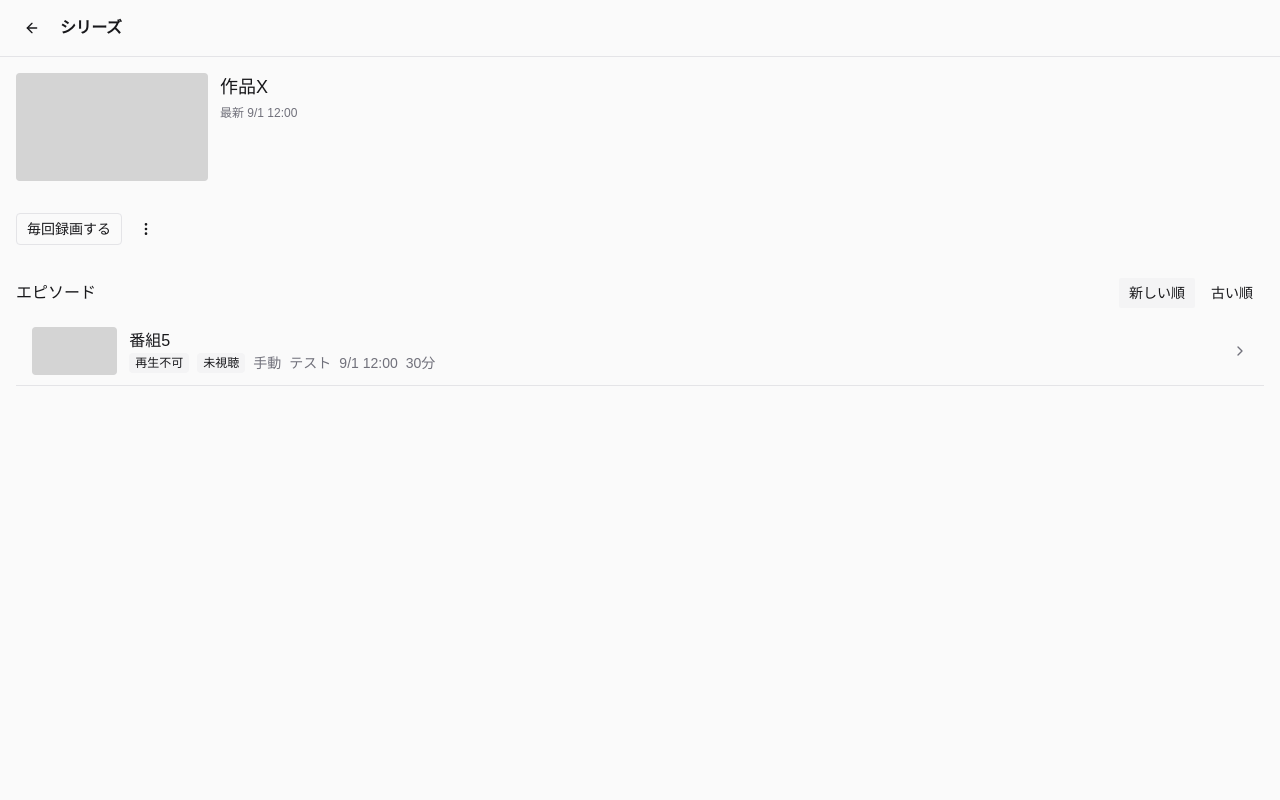
Test case: SeriesHubPage › overflow からシリーズ軸の分類フォームを開く
Click the button named "シリーズのその他の操作" at [146, 229], box [130,213,162,245]
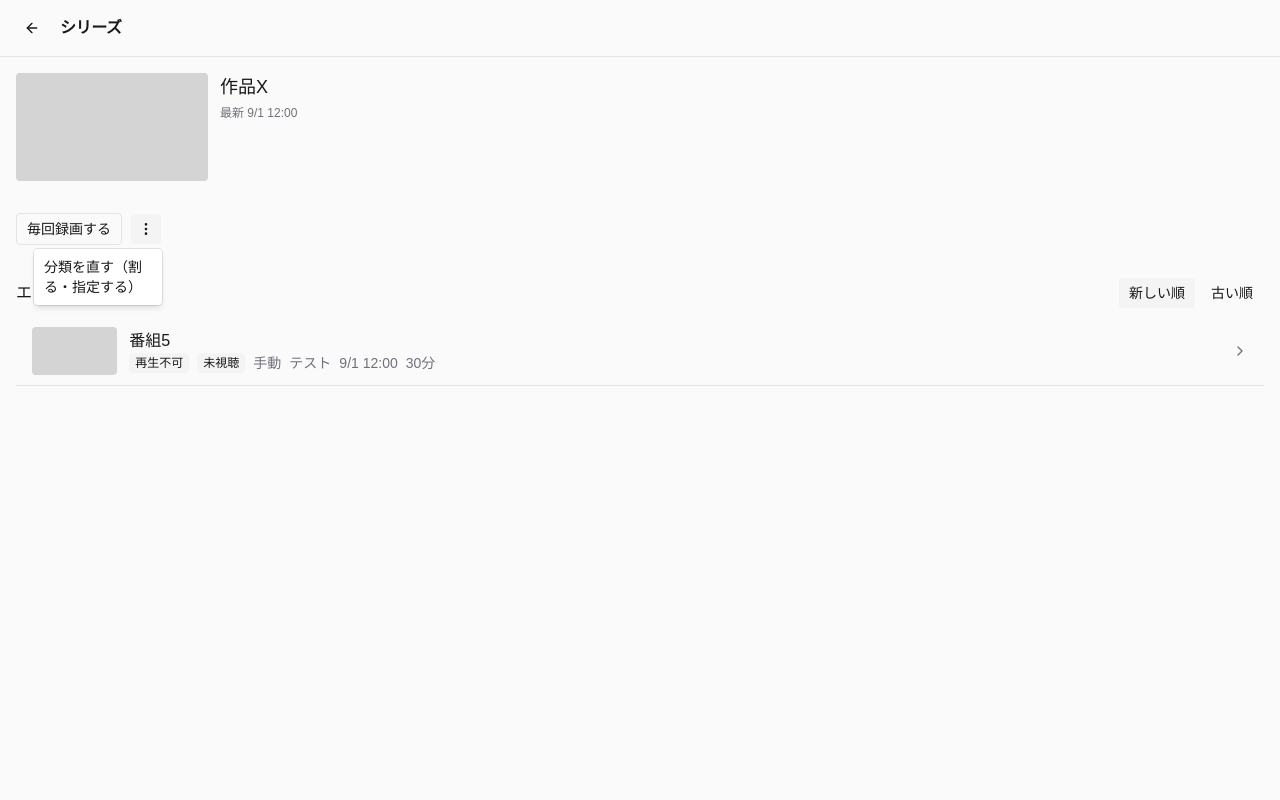
Click the menu item "分類を直す（割る・指定する）" at [93, 277], box [44,259,142,295]
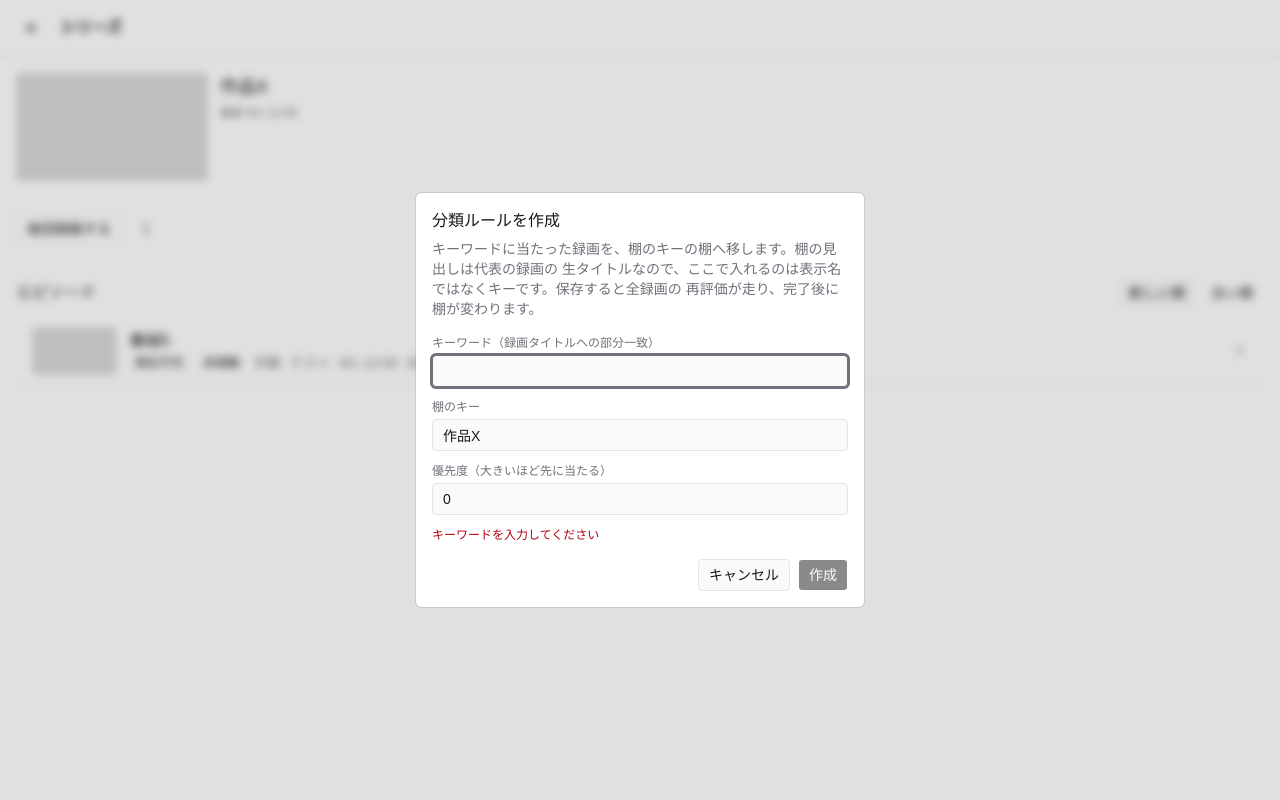
Expected: the field labelled "棚のキー" holds "作品X", [432,419,848,451]
